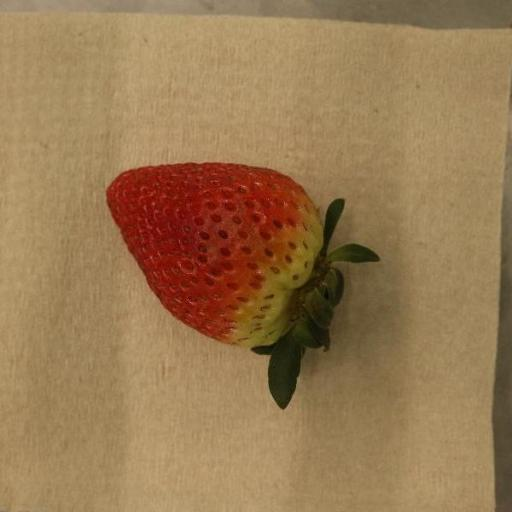Strawberry: (107, 163, 382, 411)
